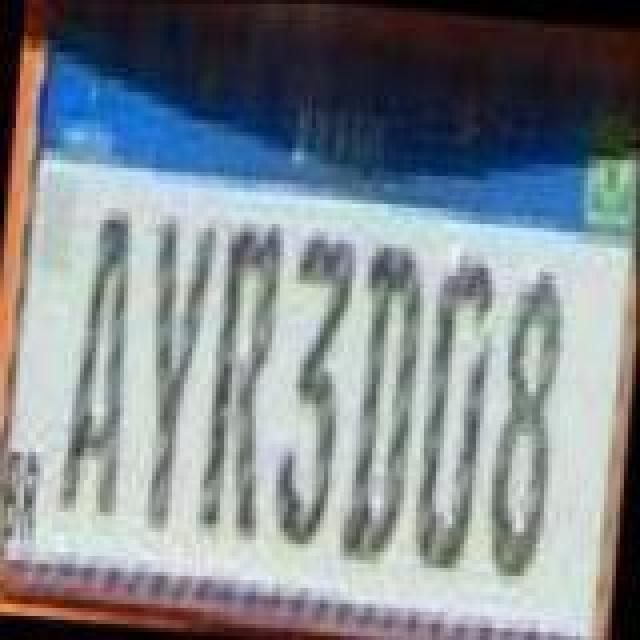3: (266, 222, 362, 550)
8: (480, 260, 572, 580)
A: (56, 202, 148, 534)
D: (408, 238, 500, 574), (336, 240, 428, 572)
R: (196, 216, 288, 548)
Y: (128, 212, 220, 544)
